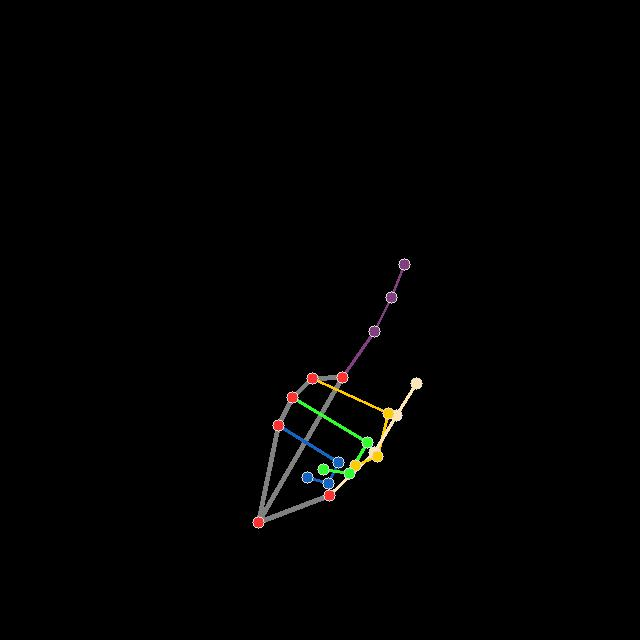gun: (249, 258, 421, 531)
